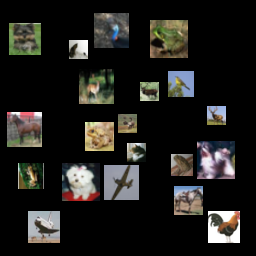airplane: (104, 165, 139, 200), (28, 211, 60, 243)
bird: (94, 13, 129, 48), (208, 211, 240, 243), (168, 71, 194, 97)
cat: (127, 143, 146, 162), (69, 40, 88, 59)
deer: (79, 69, 114, 104), (207, 106, 226, 125), (140, 82, 159, 101), (118, 114, 137, 133)
dog: (197, 141, 235, 179), (62, 163, 100, 201), (9, 23, 41, 55)
frog: (150, 20, 188, 58), (85, 122, 114, 151), (18, 163, 44, 189), (171, 154, 193, 176)
